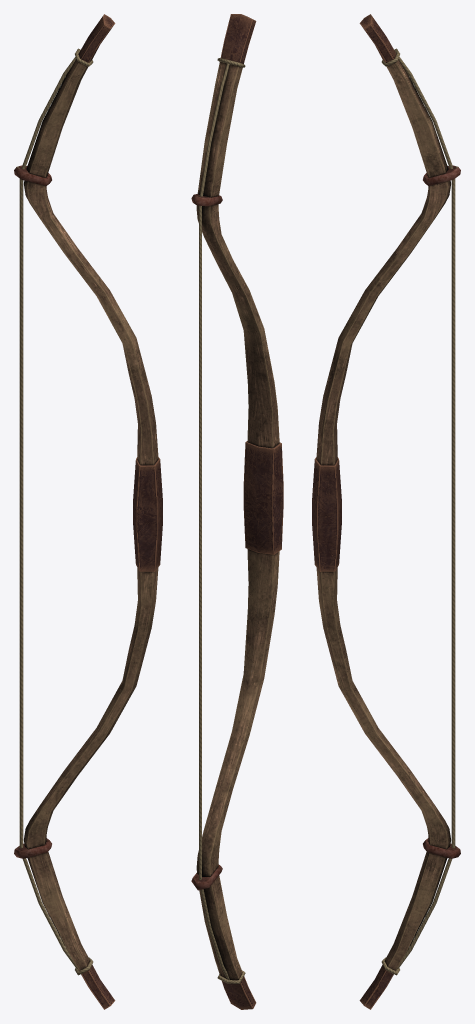
Rendered from weapon_bow_test.fbx.
The picture shows the model from 3 angles, left to right: view 1: azimuth 90°, elevation 25°; view 2: azimuth 150°, elevation 25°; view 3: azimuth 270°, elevation 25°; orthographic projection.
Visible parts, largest first — view 1: weapon_bow; view 2: weapon_bow; view 3: weapon_bow.
Boxes of the visible parts, left/top/right/bottom form: weapon_bow: left=14, top=14, right=162, bottom=1009; weapon_bow: left=191, top=14, right=283, bottom=1009; weapon_bow: left=312, top=14, right=460, bottom=1009.
Bounding box in the file's own units: 8.47 × 276 × 37.54.
